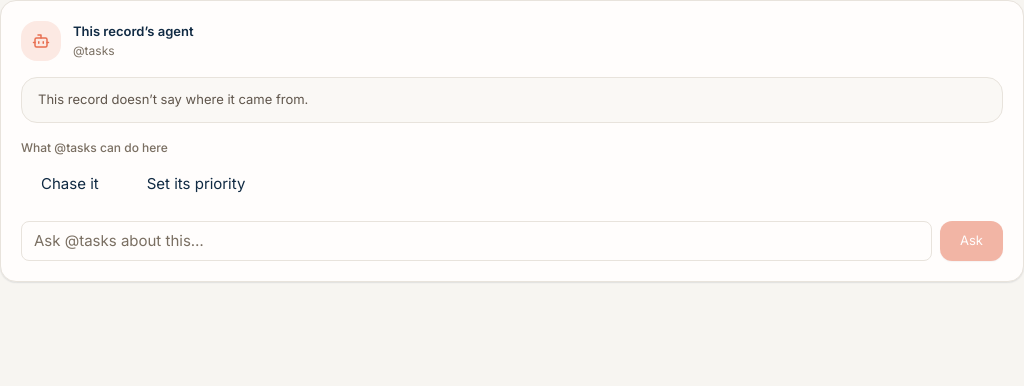
Test case: an ask goes to the agent with the record named, and the answer shows in place
This screenshot has width=1024, height=386.
Type "where has this got to?" into the field with placeholder "Ask @tasks about this…" at (476, 240), box [21,220,932,260]
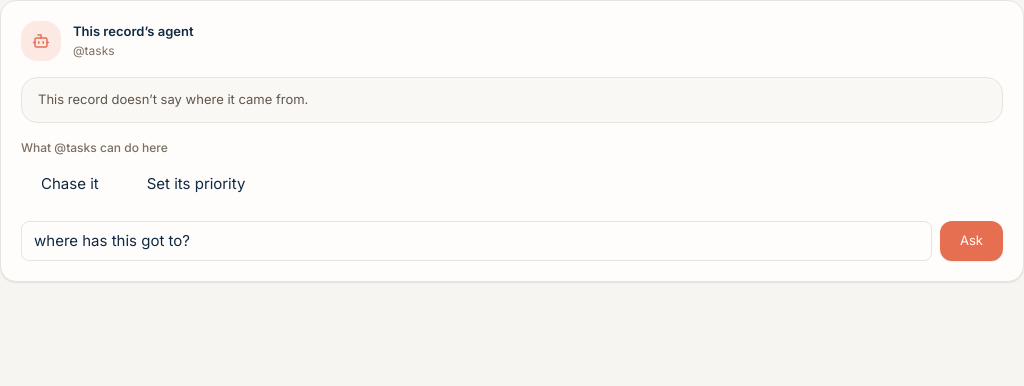
Click the button "Ask" at (972, 240), box [940,220,1003,260]
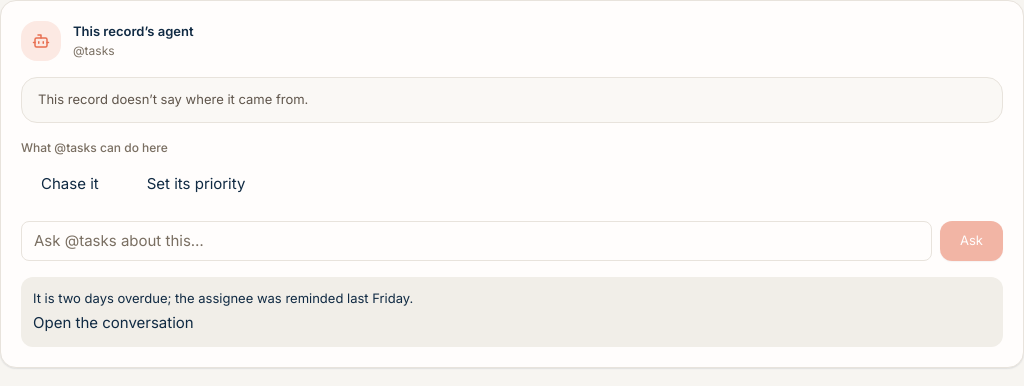
Expected: the button "Open the conversation" is shown, [33,312,194,334]
